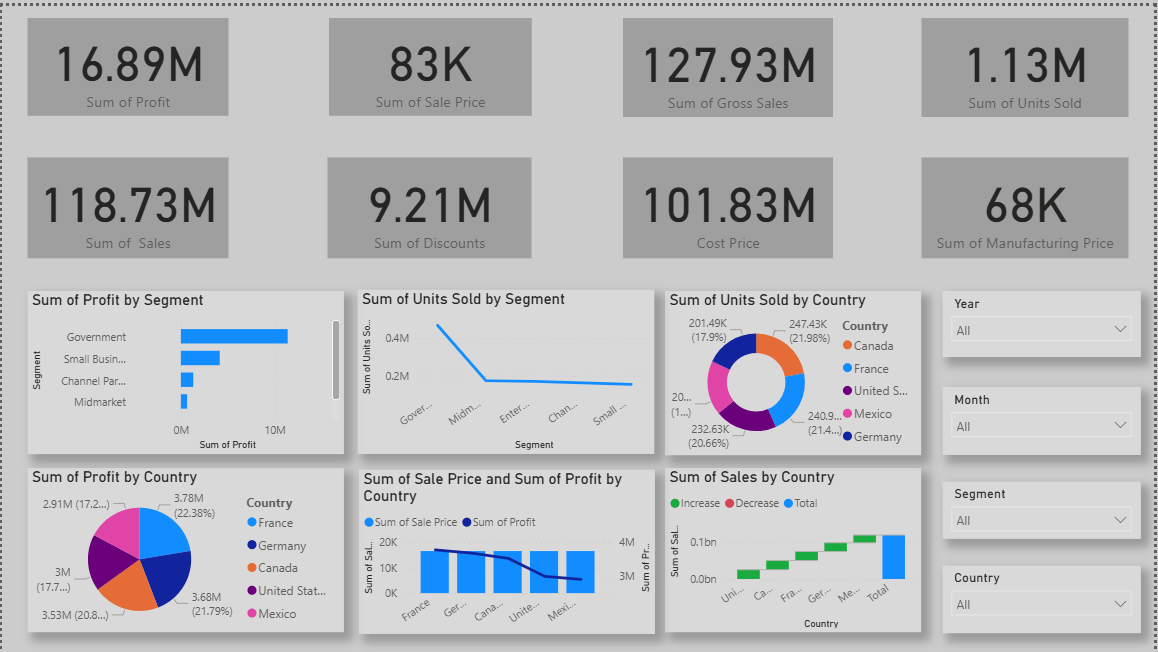

The page's visual inventory and layout, read from the dashboard file:
{"tool":"powerbi","page":{"name":"Page 1","canvas":[1280,720],"ordinal":0},"visuals":[{"type":"card","fields":{"Values":["Sum(financials.Profit)"]},"box":[28.3,13.3,223.3,108.3],"z":0},{"type":"card","fields":{"Values":["Sum(financials.Sale Price)"]},"box":[363.3,13.3,225,108.3],"z":1000},{"type":"card","fields":{"Values":["Sum(financials.Gross Sales)"]},"box":[690,13.3,233.3,110],"z":2000},{"type":"card","fields":{"Values":["Sum(financials.Units Sold)"]},"box":[1021.7,13.3,230,110],"z":3000},{"type":"card","fields":{"Values":["financials.Cost Price"]},"box":[690,168.3,233.3,111.7],"z":4000},{"type":"card","fields":{"Values":["Sum(financials. Sales)"]},"box":[28.3,168.3,223.3,111.7],"z":5000},{"type":"card","fields":{"Values":["Sum(financials.Discounts)"]},"box":[361.7,168.3,226.7,111.7],"z":6000},{"type":"card","fields":{"Values":["Sum(financials.Manufacturing Price)"]},"box":[1021.7,168.3,230,111.7],"z":7000},{"type":"clusteredBarChart","fields":{"Category":["financials.Segment"],"Y":["Sum(financials.Profit)"]},"box":[29.1,317.4,351.4,181.4],"z":8000},{"type":"lineChart","fields":{"Y":["Sum(financials.Units Sold)"],"Category":["financials.Segment"]},"box":[395.1,315.7,330.3,183],"z":9000},{"type":"pieChart","fields":{"Category":["financials.Country"],"Y":["Sum(financials.Profit)"]},"box":[29.1,513.3,351.4,183],"z":10000},{"type":"lineStackedColumnComboChart","fields":{"Category":["financials.Country"],"Y2":["Sum(financials.Profit)"],"Y":["Sum(financials.Sale Price)"]},"box":[396.7,514.9,328.7,183],"z":11000},{"type":"slicer","fields":{"Values":["financials.Year"]},"box":[1045,316.7,220,73.3],"z":12000},{"type":"slicer","fields":{"Values":["financials.Date.Variation.Date Hierarchy.Month"]},"box":[1045,423.3,220,75],"z":13000},{"type":"slicer","fields":{"Values":["financials.Segment"]},"box":[1045,528.3,220,63.3],"z":14000},{"type":"slicer","fields":{"Values":["financials.Country"]},"box":[1045,621.7,220,75],"z":15000},{"type":"donutChart","fields":{"Category":["financials.Country"],"Y":["Sum(financials.Units Sold)"]},"box":[736.7,317.4,285,183],"z":16000},{"type":"waterfallChart","fields":{"Category":["financials.Country"],"Y":["Sum(financials. Sales)"]},"box":[736.7,513.3,285,183],"z":17000}]}

Visuals, with their boxes in screenshot pixels (x1, y1, x2, y2), scaled from the page's 1280x720 canvas onto the 1158x652 screenshot:
card - Sum(financials.Profit): (left=26, top=12, right=228, bottom=110)
card - Sum(financials.Sale Price): (left=329, top=12, right=532, bottom=110)
card - Sum(financials.Gross Sales): (left=624, top=12, right=835, bottom=112)
card - Sum(financials.Units Sold): (left=924, top=12, right=1132, bottom=112)
card - financials.Cost Price: (left=624, top=152, right=835, bottom=254)
card - Sum(financials. Sales): (left=26, top=152, right=228, bottom=254)
card - Sum(financials.Discounts): (left=327, top=152, right=532, bottom=254)
card - Sum(financials.Manufacturing Price): (left=924, top=152, right=1132, bottom=254)
clusteredBarChart - financials.Segment x Sum(financials.Profit): (left=26, top=287, right=344, bottom=452)
lineChart - Sum(financials.Units Sold) x financials.Segment: (left=357, top=286, right=656, bottom=452)
pieChart - financials.Country x Sum(financials.Profit): (left=26, top=465, right=344, bottom=631)
lineStackedColumnComboChart - financials.Country x Sum(financials.Profit): (left=359, top=466, right=656, bottom=632)
slicer - financials.Year: (left=945, top=287, right=1144, bottom=353)
slicer - financials.Date.Variation.Date Hierarchy.Month: (left=945, top=383, right=1144, bottom=451)
slicer - financials.Segment: (left=945, top=478, right=1144, bottom=536)
slicer - financials.Country: (left=945, top=563, right=1144, bottom=631)
donutChart - financials.Country x Sum(financials.Units Sold): (left=666, top=287, right=924, bottom=453)
waterfallChart - financials.Country x Sum(financials. Sales): (left=666, top=465, right=924, bottom=631)
